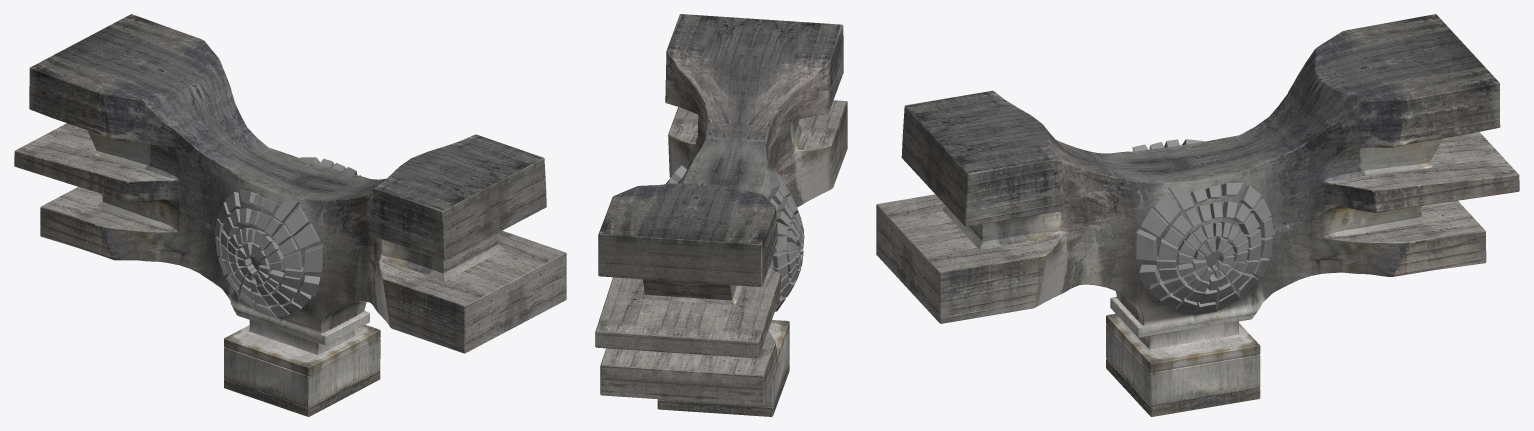
The model's file is spomenikpodgaric.glb.
3 renders of one model, left to right at view 1: azimuth 30°, elevation 25°; view 2: azimuth 150°, elevation 25°; view 3: azimuth 270°, elevation 25°, orthographic. The views are drawn at different scales.
Parts seen in each view (by area): view 1: Box001, Line001; view 2: Box001, Line001; view 3: Box001, Line001.
Part boxes in pixels (x1,y1,x2,y2): Box001: [14, 14, 566, 416]; Line001: [214, 157, 360, 318]; Box001: [595, 14, 847, 416]; Line001: [665, 165, 804, 311]; Box001: [876, 14, 1519, 416]; Line001: [1128, 139, 1274, 315].
Bounding box in the file's own units: 12.28 × 10.07 × 20.31.
Materials: 2 (1 with a texture image).
